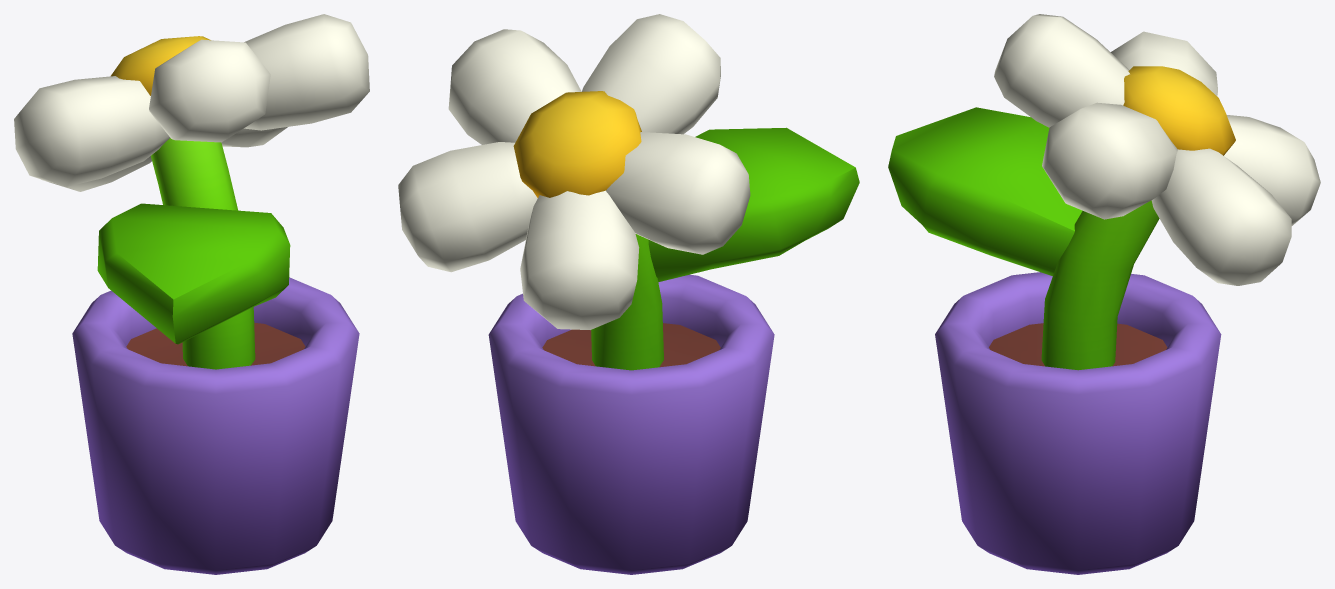
Rendered from PlantDaisy.fbx.
3 renders of one model, left to right at view 1: azimuth 30°, elevation 25°; view 2: azimuth 150°, elevation 25°; view 3: azimuth 270°, elevation 25°, orthographic.
Visible parts, largest first — view 1: Plant06_Daisy; view 2: Plant06_Daisy; view 3: Plant06_Daisy.
Boxes of the visible parts, box(x1,y1,x2,y2) form: Plant06_Daisy: box(14, 14, 369, 574); Plant06_Daisy: box(398, 14, 859, 574); Plant06_Daisy: box(888, 14, 1320, 574).
Bounding box in the file's own units: 258 × 331 × 219.
